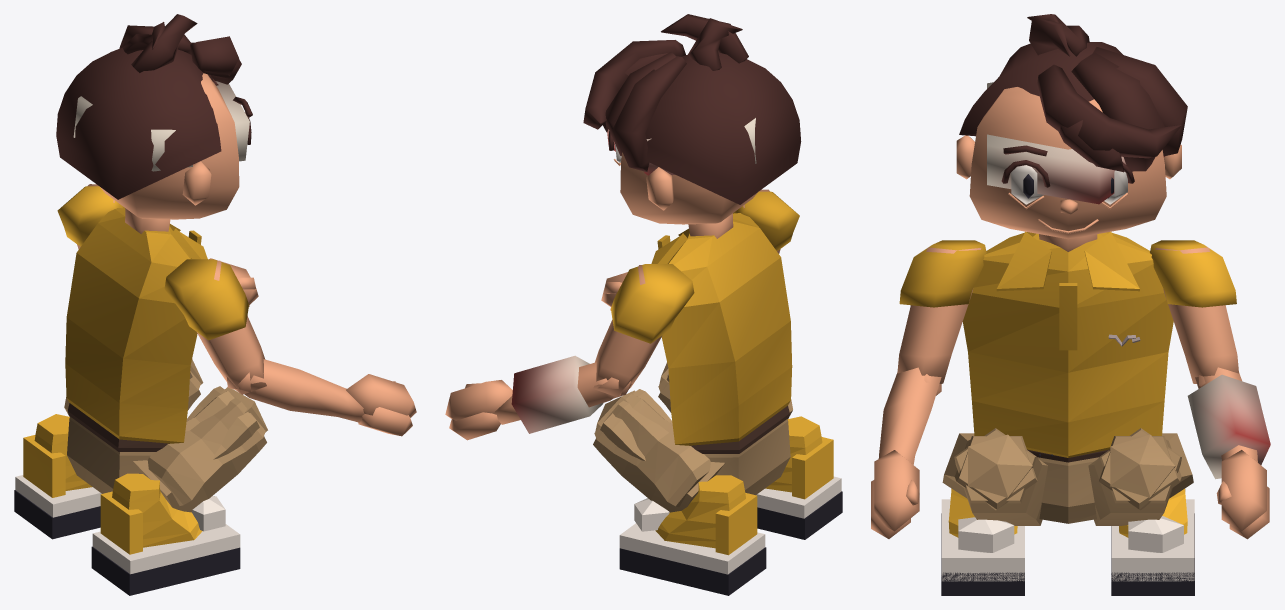
Rendered from npc.shelter-survivor.sitting.lod2.glb.
The picture shows the model from 3 angles, left to right: view 1: azimuth 30°, elevation 25°; view 2: azimuth 150°, elevation 25°; view 3: azimuth 270°, elevation 25°; orthographic projection. The views are drawn at different scales.
Visible parts, largest first — view 1: head, torso, footR, armR, footL, shinR, hip, foreArmR, legR, handR, armL, handL; view 2: head, torso, footL, armL, footR, foreArmL, shinL, hip, legL, handL, armR; view 3: torso, head, armL, armR, footR, footL, foreArmL, shinL, shinR, foreArmR, handL, hip (+3 smaller).
Boxes of the visible parts, left/top/right/bottom form: head: left=56, top=14, right=252, bottom=233; torso: left=65, top=208, right=207, bottom=443; footR: left=91, top=473, right=240, bottom=595; armR: left=164, top=259, right=266, bottom=394; footL: left=14, top=414, right=101, bottom=539; shinR: left=147, top=386, right=267, bottom=505; hip: left=67, top=403, right=169, bottom=493; foreArmR: left=226, top=359, right=364, bottom=422; legR: left=133, top=391, right=266, bottom=512; handR: left=346, top=374, right=416, bottom=436; armL: left=57, top=184, right=125, bottom=249; handL: left=209, top=258, right=258, bottom=306; head: left=583, top=14, right=801, bottom=238; torso: left=651, top=213, right=792, bottom=445; footL: left=619, top=475, right=766, bottom=595; armL: left=593, top=264, right=694, bottom=397; footR: left=756, top=416, right=842, bottom=539; foreArmL: left=493, top=355, right=631, bottom=433; shinL: left=594, top=389, right=710, bottom=507; hip: left=689, top=405, right=790, bottom=495; legL: left=593, top=393, right=724, bottom=512; handL: left=445, top=380, right=512, bottom=440; armR: left=733, top=189, right=799, bottom=253; torso: left=962, top=231, right=1173, bottom=457; head: left=956, top=14, right=1187, bottom=251; armL: left=1150, top=240, right=1238, bottom=383; armR: left=897, top=240, right=986, bottom=383; footR: left=941, top=488, right=1024, bottom=595; footL: left=1111, top=488, right=1194, bottom=595; foreArmL: left=1187, top=367, right=1270, bottom=479; shinL: left=1099, top=433, right=1193, bottom=510; shinR: left=942, top=433, right=1037, bottom=510; foreArmR: left=878, top=367, right=941, bottom=464; handL: left=1216, top=450, right=1269, bottom=539; hip: left=1027, top=449, right=1109, bottom=523.
Size of the model in its own units: 0.6887 by 1.28 by 0.8164.
